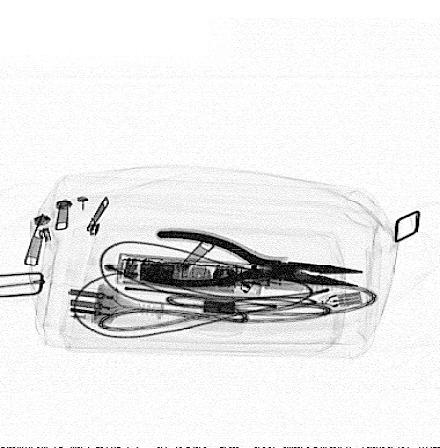Pliers: (151, 227, 366, 290)
